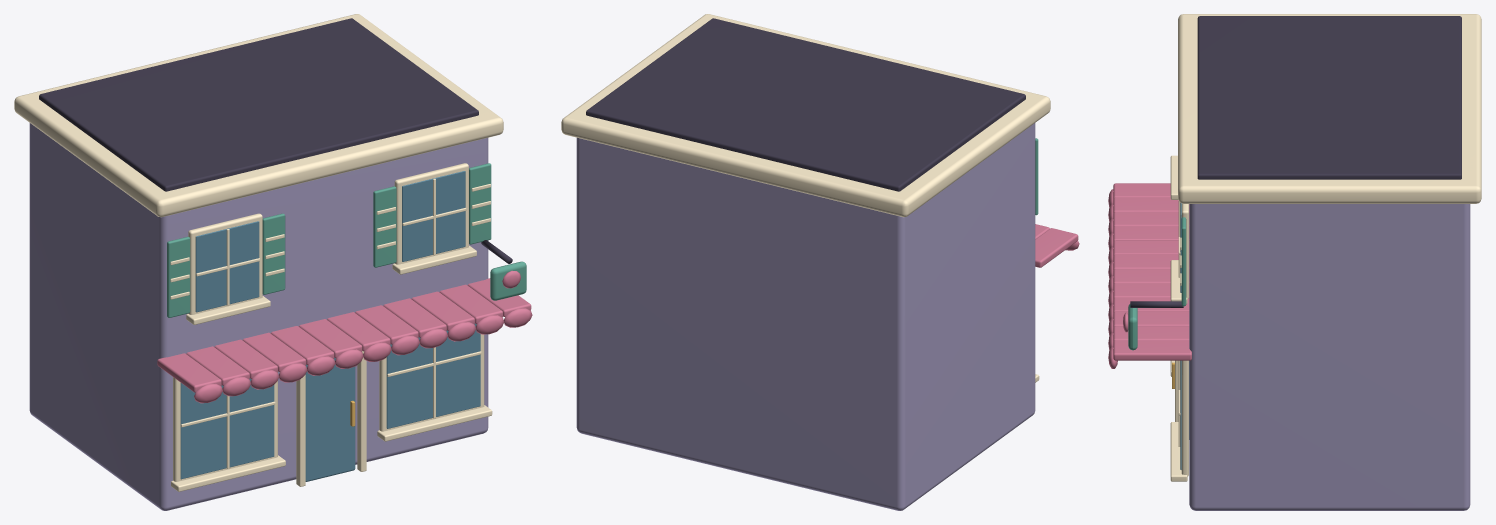
Rendered from Seaside_shop.fbx.
The picture shows the model from 3 angles, left to right: view 1: azimuth 30°, elevation 25°; view 2: azimuth 150°, elevation 25°; view 3: azimuth 270°, elevation 25°; orthographic projection. The views are drawn at different scales.
Parts seen in each view (by area): view 1: Town_Seaside_shop Shop walls.001, Town_Seaside_shop Roof inset.001, Town_Seaside_shop Shop cornice.001, Town_Seaside_shop Window glass.004, Town_Seaside_shop Window glass.006, Town_Seaside_shop Shop door.001, Town_Seaside_shop Window glass.005, Town_Seaside_shop Window glass.007, Town_Seaside_shop Shutter.004, Town_Seaside_shop Shutter.005, Town_Seaside_shop Shutter.006, Town_Seaside_shop Shutter.007 (+23 smaller); view 2: Town_Seaside_shop Shop walls.001, Town_Seaside_shop Roof inset.001, Town_Seaside_shop Shop cornice.001, Town_Seaside_shop Striped awning.012; view 3: Town_Seaside_shop Shop walls.001, Town_Seaside_shop Roof inset.001, Town_Seaside_shop Shop cornice.001, Town_Seaside_shop Striped awning.023, Town_Seaside_shop Striped awning.022, Town_Seaside_shop Striped awning.016, Town_Seaside_shop Striped awning.014, Town_Seaside_shop Striped awning.015, Town_Seaside_shop Striped awning.013, Town_Seaside_shop Striped awning.021, Town_Seaside_shop Striped awning.017, Town_Seaside_shop Window surround.006 (+8 smaller).
Part boxes in pixels (left/top/right/bottom): Town_Seaside_shop Shop walls.001: left=29, top=123, right=488, bottom=510; Town_Seaside_shop Roof inset.001: left=39, top=18, right=478, bottom=191; Town_Seaside_shop Shop cornice.001: left=14, top=14, right=503, bottom=217; Town_Seaside_shop Window glass.004: left=180, top=378, right=274, bottom=479; Town_Seaside_shop Window glass.006: left=386, top=323, right=480, bottom=428; Town_Seaside_shop Shop door.001: left=305, top=358, right=355, bottom=481; Town_Seaside_shop Window glass.005: left=195, top=221, right=259, bottom=312; Town_Seaside_shop Window glass.007: left=402, top=171, right=465, bottom=261; Town_Seaside_shop Shutter.004: left=167, top=236, right=190, bottom=317; Town_Seaside_shop Shutter.005: left=262, top=213, right=285, bottom=294; Town_Seaside_shop Shutter.006: left=373, top=186, right=396, bottom=267; Town_Seaside_shop Shutter.007: left=469, top=163, right=491, bottom=244; Town_Seaside_shop Shop walls.001: left=576, top=123, right=1035, bottom=510; Town_Seaside_shop Roof inset.001: left=586, top=18, right=1025, bottom=191; Town_Seaside_shop Shop cornice.001: left=561, top=14, right=1050, bottom=217; Town_Seaside_shop Striped awning.012: left=1035, top=228, right=1078, bottom=267; Town_Seaside_shop Shop walls.001: left=1189, top=204, right=1470, bottom=510; Town_Seaside_shop Roof inset.001: left=1197, top=16, right=1461, bottom=179; Town_Seaside_shop Shop cornice.001: left=1178, top=14, right=1481, bottom=203; Town_Seaside_shop Striped awning.023: left=1113, top=340, right=1191, bottom=360; Town_Seaside_shop Striped awning.022: left=1113, top=326, right=1189, bottom=341; Town_Seaside_shop Striped awning.016: left=1113, top=240, right=1189, bottom=256; Town_Seaside_shop Striped awning.014: left=1113, top=212, right=1189, bottom=227; Town_Seaside_shop Striped awning.015: left=1113, top=226, right=1189, bottom=241; Town_Seaside_shop Striped awning.013: left=1113, top=197, right=1189, bottom=213; Town_Seaside_shop Striped awning.021: left=1113, top=311, right=1189, bottom=327; Town_Seaside_shop Striped awning.017: left=1113, top=254, right=1189, bottom=270; Town_Seaside_shop Window surround.006: left=1181, top=360, right=1188, bottom=476.
Size of the model in its own units: 740 by 658 by 664.
